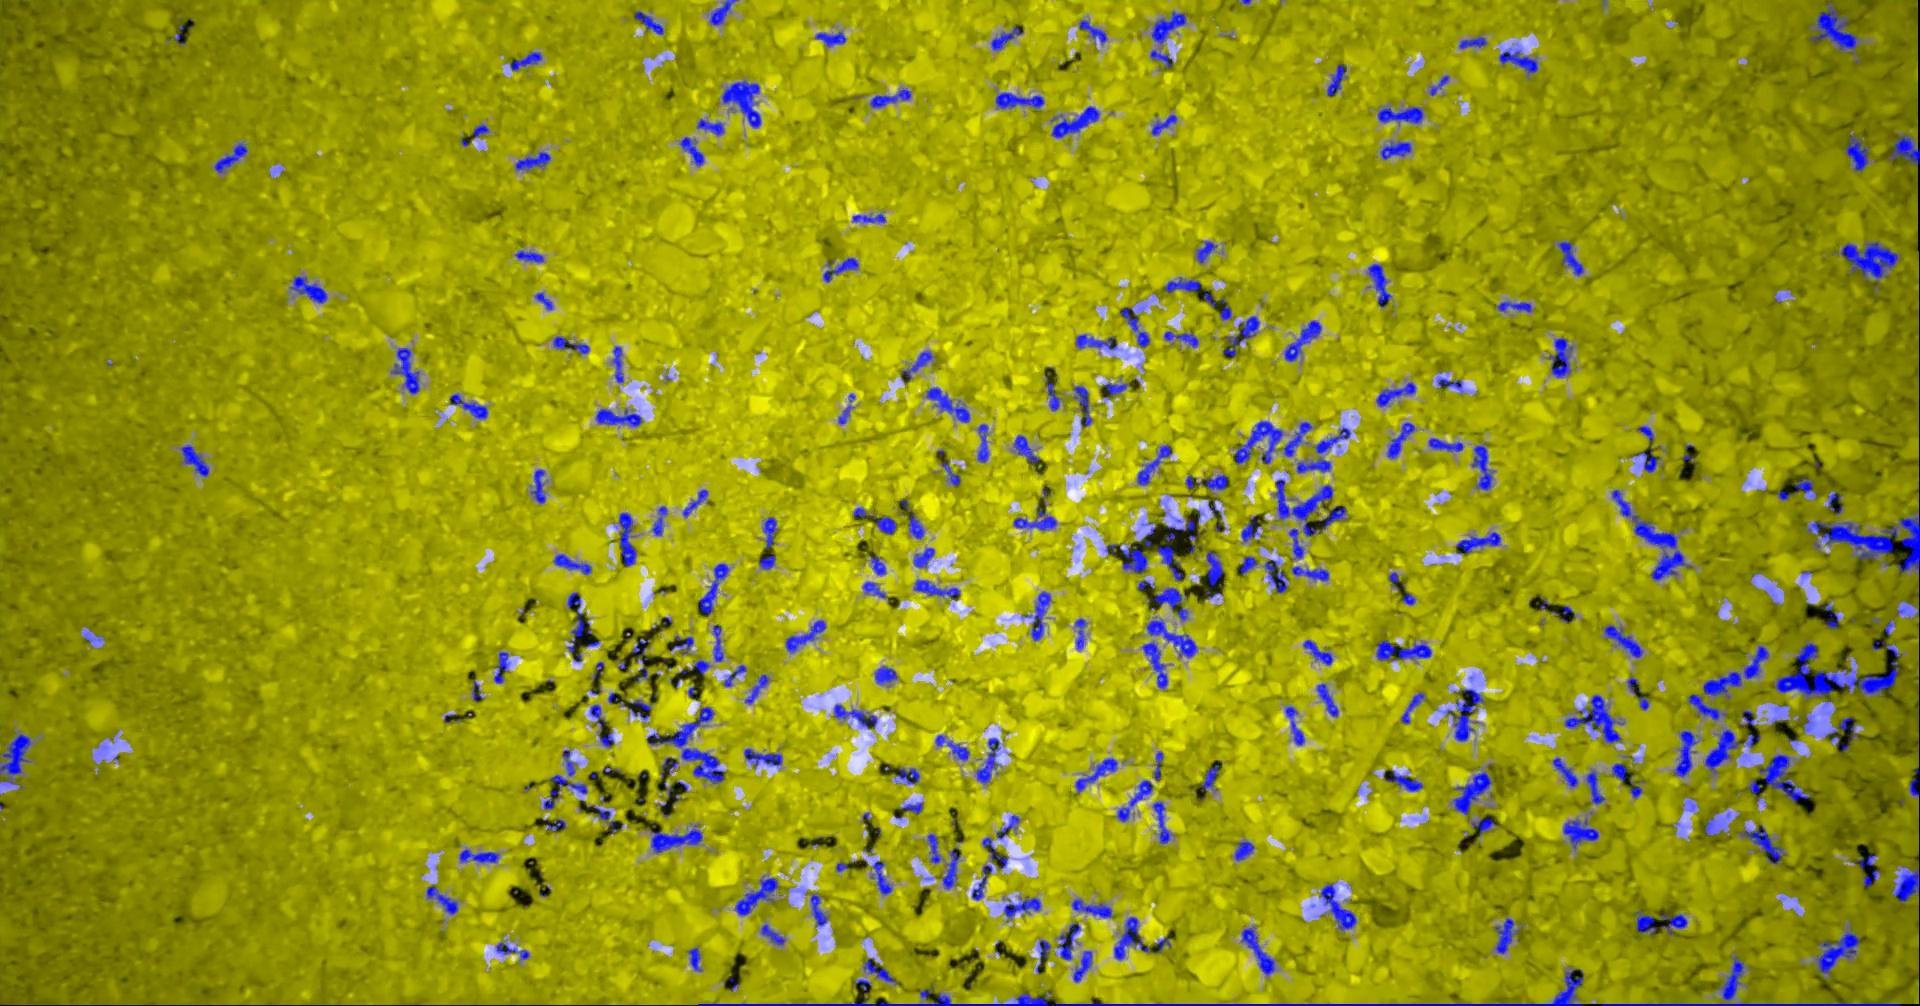ant: (1603, 956, 1902, 1005), (1704, 645, 1770, 699), (1277, 479, 1335, 536), (1157, 509, 1201, 580), (1566, 694, 1625, 743), (1298, 426, 1352, 473), (1811, 0, 1858, 53), (1705, 729, 1761, 772), (1760, 754, 1811, 801), (1236, 420, 1284, 464), (1448, 688, 1484, 741), (723, 80, 762, 127), (1148, 620, 1197, 657), (1818, 932, 1862, 973), (1454, 771, 1493, 814), (1242, 926, 1276, 976), (1322, 883, 1357, 930), (569, 592, 593, 661), (737, 876, 778, 915), (700, 563, 730, 615), (545, 774, 589, 809), (1051, 105, 1101, 137), (1743, 824, 1784, 862), (1115, 916, 1150, 959), (927, 387, 971, 422), (1, 733, 32, 782), (1286, 320, 1323, 361), (1117, 780, 1154, 821), (1224, 316, 1261, 356), (1077, 758, 1119, 793), (1138, 445, 1172, 485), (651, 826, 703, 852), (1023, 591, 1051, 640), (392, 347, 422, 392), (1605, 624, 1644, 657), (1150, 587, 1189, 620), (1143, 641, 1170, 688), (787, 620, 827, 652), (1378, 639, 1432, 661), (855, 507, 898, 533), (1121, 307, 1150, 347), (1107, 544, 1148, 572), (1153, 11, 1187, 43), (1827, 716, 1859, 751), (1369, 263, 1393, 307), (1675, 730, 1698, 776), (978, 737, 1001, 782), (836, 704, 879, 728), (291, 276, 328, 304), (1388, 422, 1416, 459), (903, 351, 935, 382), (1285, 420, 1313, 456), (1564, 819, 1600, 847), (1015, 507, 1058, 530), (1550, 337, 1575, 377), (1377, 382, 1417, 406), (620, 512, 637, 567), (451, 392, 489, 418), (1690, 694, 1728, 719), (1891, 133, 1920, 166), (216, 142, 249, 171), (1473, 445, 1495, 489), (1457, 532, 1502, 553), (916, 579, 961, 600), (1500, 50, 1539, 72), (902, 499, 924, 539), (182, 445, 210, 476), (634, 631, 651, 681), (865, 956, 898, 983), (1559, 241, 1585, 276), (1004, 897, 1043, 920), (1496, 918, 1521, 953), (824, 257, 860, 281), (428, 887, 458, 915), (1059, 922, 1082, 959), (937, 734, 970, 760), (1895, 868, 1920, 901), (597, 408, 644, 426), (1208, 550, 1225, 597), (872, 86, 913, 107), (589, 805, 618, 833), (1154, 801, 1173, 843), (997, 91, 1045, 108), (1265, 559, 1289, 592), (1015, 434, 1041, 464), (555, 554, 593, 574), (1304, 639, 1335, 664), (1286, 705, 1305, 746), (984, 837, 1010, 868), (943, 847, 963, 888), (1848, 135, 1869, 170), (1388, 770, 1423, 791), (993, 25, 1025, 50), (1379, 107, 1425, 123), (1073, 898, 1112, 917), (1076, 385, 1093, 426), (973, 864, 993, 899), (1318, 683, 1340, 716), (1079, 19, 1109, 43), (681, 136, 705, 165), (1554, 757, 1578, 786), (635, 11, 665, 34), (1402, 692, 1425, 723), (872, 860, 893, 894), (1628, 677, 1650, 709), (711, 0, 738, 25), (517, 151, 552, 170), (745, 748, 783, 766), (745, 674, 770, 702), (1328, 64, 1349, 97), (1077, 333, 1117, 349), (684, 489, 709, 516), (1321, 506, 1347, 530), (1187, 474, 1229, 489), (1587, 770, 1606, 803), (512, 51, 543, 70), (1382, 140, 1413, 159), (555, 337, 590, 353), (1164, 277, 1203, 292), (1074, 950, 1093, 981), (1201, 763, 1222, 791), (461, 848, 502, 862), (811, 894, 829, 926), (1636, 909, 1658, 934), (1048, 371, 1062, 410), (497, 942, 530, 959), (1164, 332, 1200, 347), (1662, 913, 1689, 934), (1636, 450, 1658, 473), (532, 469, 547, 503), (998, 815, 1021, 838), (1153, 114, 1178, 135), (1293, 567, 1330, 580), (1243, 514, 1262, 541), (839, 392, 856, 423), (1430, 437, 1465, 451), (762, 923, 786, 944), (495, 652, 510, 683), (1037, 939, 1051, 973), (725, 664, 747, 686), (817, 30, 847, 46), (1796, 476, 1818, 497), (943, 461, 963, 485), (1821, 603, 1840, 627), (979, 423, 990, 462), (653, 506, 668, 535), (1290, 528, 1305, 558), (764, 517, 778, 549), (1152, 50, 1175, 69), (672, 635, 695, 654), (1197, 241, 1218, 262), (631, 699, 651, 719), (1236, 840, 1256, 860), (930, 833, 943, 862), (698, 118, 725, 133), (714, 625, 725, 661), (590, 704, 606, 730), (1473, 817, 1496, 835), (863, 580, 888, 597), (1498, 301, 1533, 312), (1103, 384, 1131, 398), (1431, 75, 1450, 95), (916, 547, 936, 567), (1076, 619, 1088, 649), (1553, 605, 1575, 622), (876, 666, 898, 683), (1855, 854, 1877, 871), (615, 345, 625, 382), (662, 757, 679, 777), (1460, 36, 1488, 48), (1829, 492, 1844, 514), (898, 767, 921, 782), (1749, 780, 1765, 800), (516, 250, 545, 262), (564, 749, 577, 775), (1630, 774, 1644, 796), (690, 948, 703, 970), (1241, 556, 1258, 574), (1439, 379, 1463, 391), (855, 213, 888, 222), (536, 292, 554, 309), (872, 555, 888, 574), (1613, 763, 1628, 781), (1865, 869, 1881, 887), (902, 801, 924, 813), (1156, 751, 1164, 780), (547, 818, 568, 831), (761, 554, 777, 569), (1222, 297, 1233, 319), (177, 24, 188, 44), (599, 730, 615, 746), (1641, 426, 1655, 442), (1156, 937, 1172, 951), (696, 661, 711, 674), (474, 124, 490, 137), (1743, 709, 1756, 725), (594, 661, 604, 681), (1205, 290, 1217, 307), (474, 680, 483, 701), (1705, 818, 1717, 835), (1403, 592, 1417, 605), (1911, 779, 1920, 796)
